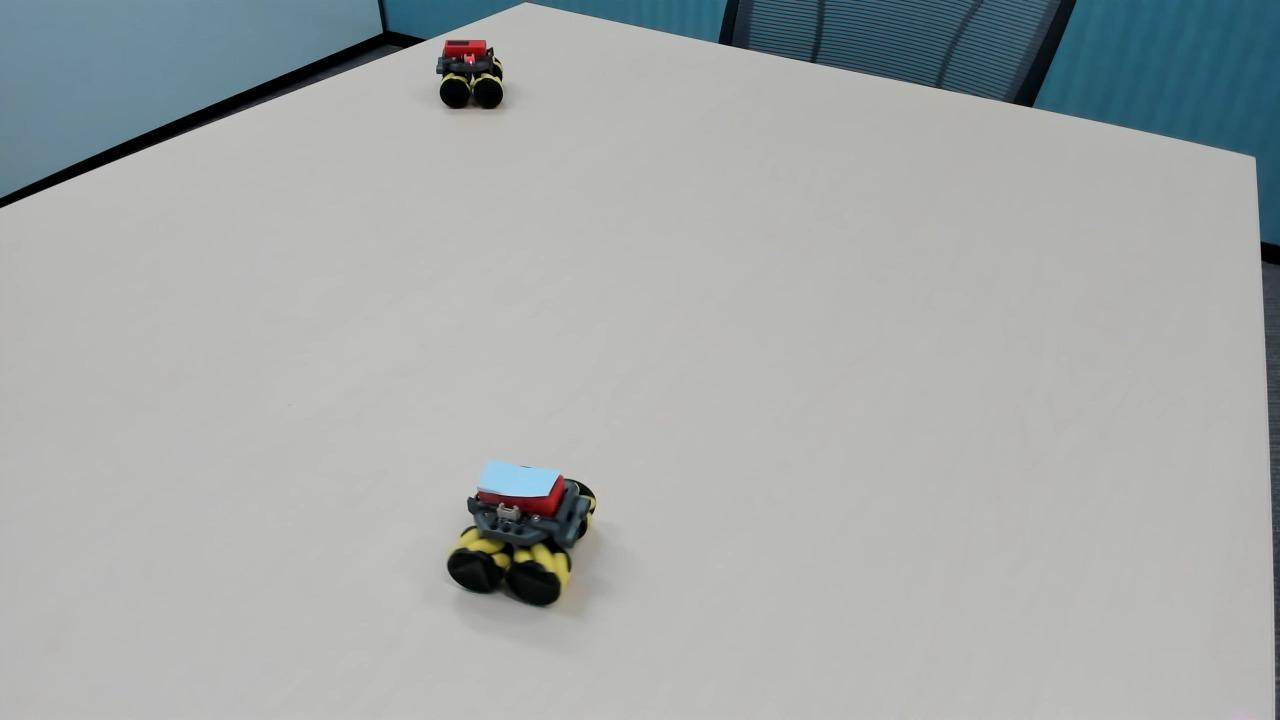B-Robot: (443, 450, 619, 625)
R-Robot: (430, 33, 506, 130)
